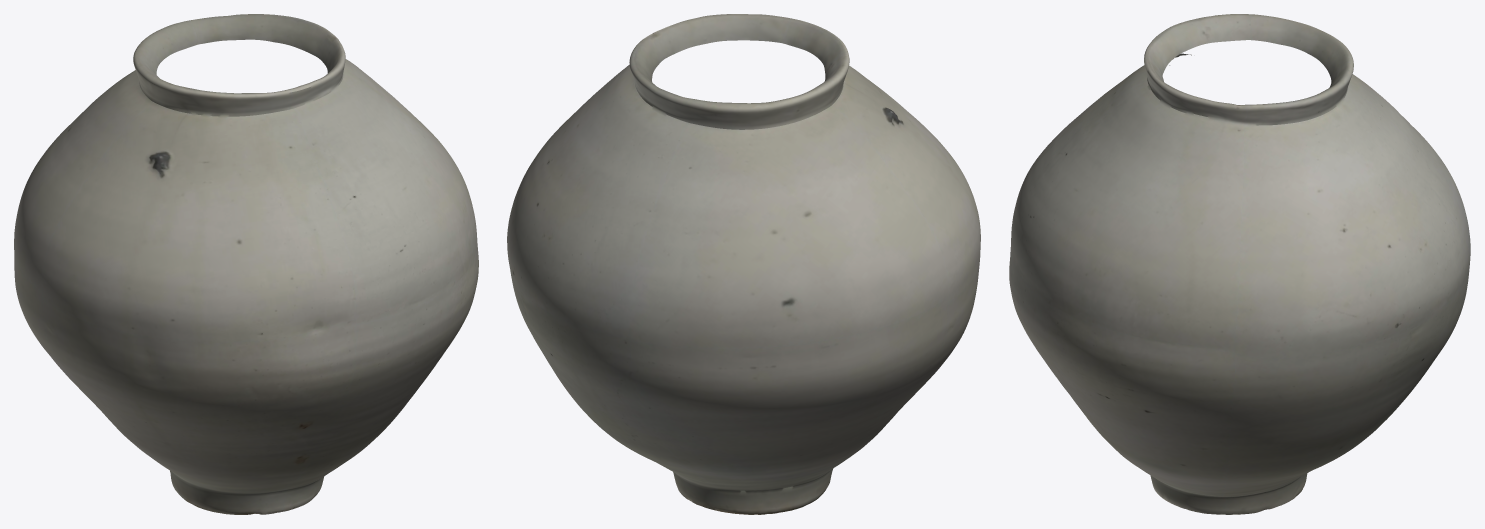
Rendered from moon-jar.glb.
3 views of the same model, side by side, from view 1: azimuth 30°, elevation 25°; view 2: azimuth 150°, elevation 25°; view 3: azimuth 270°, elevation 25° (orthographic). The views are drawn at different scales.
Parts seen in each view (by area): view 1: jub002084-000-30000; view 2: jub002084-000-30000; view 3: jub002084-000-30000.
Boxes of the visible parts, left/top/right/bottom form: jub002084-000-30000: left=14, top=14, right=478, bottom=514; jub002084-000-30000: left=507, top=14, right=980, bottom=514; jub002084-000-30000: left=1009, top=14, right=1470, bottom=514.
Size of the model in its own units: 1.15 by 1.17 by 1.14.
Materials: 1 (1 with a texture image).
